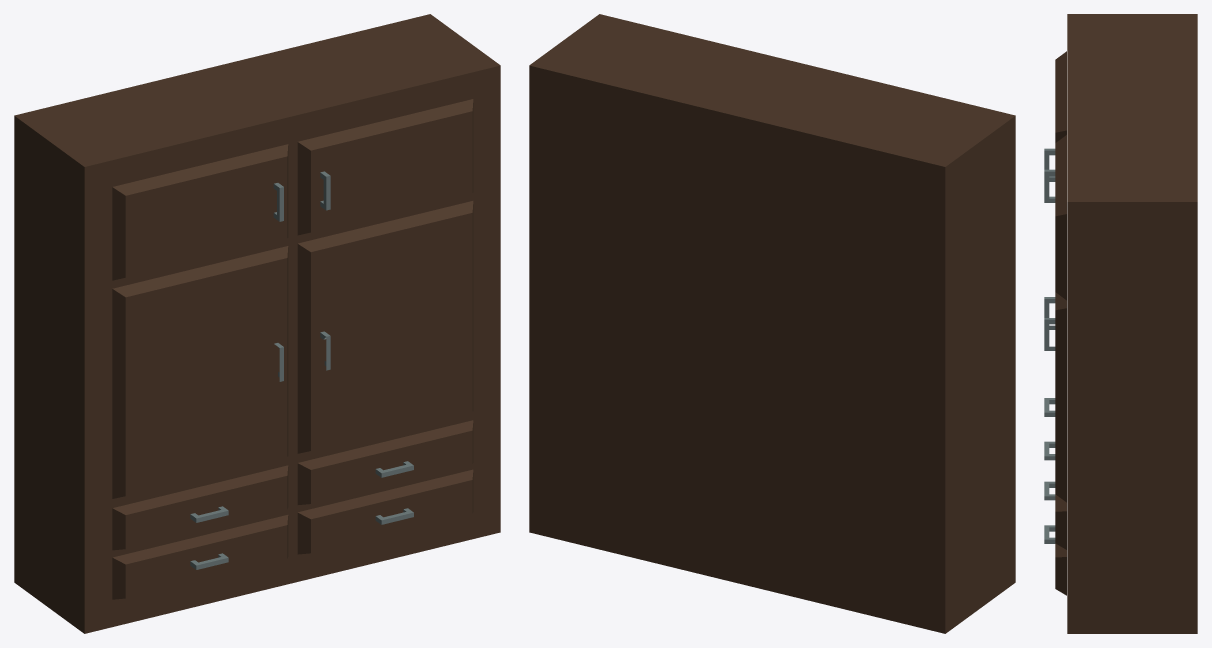
File: Wardrobe1.fbx
3 views of the same model, side by side, from view 1: azimuth 30°, elevation 25°; view 2: azimuth 150°, elevation 25°; view 3: azimuth 270°, elevation 25° (orthographic). The views are drawn at different scales.
Parts seen in each view (by area): view 1: Wardrobe, Wardrobe.004, Wardrobe.003, Wardrobe.002, Wardrobe.001, Wardrobe.005, Wardrobe.007, Wardrobe.006, Wardrobe.008; view 2: Wardrobe; view 3: Wardrobe, Wardrobe.004, Wardrobe.002, Wardrobe.001, Wardrobe.006, Wardrobe.008, Handle.V.001, Handle.V.002.
Boxes of the visible parts, bbox=[...] form: Wardrobe: bbox=[14, 14, 500, 633]; Wardrobe.004: bbox=[297, 201, 473, 453]; Wardrobe.003: bbox=[112, 246, 288, 498]; Wardrobe.002: bbox=[297, 99, 473, 235]; Wardrobe.001: bbox=[112, 144, 288, 280]; Wardrobe.005: bbox=[112, 465, 288, 550]; Wardrobe.007: bbox=[112, 515, 288, 599]; Wardrobe.006: bbox=[297, 420, 473, 504]; Wardrobe.008: bbox=[297, 469, 473, 554]; Wardrobe: bbox=[529, 14, 1015, 633]; Wardrobe: bbox=[1067, 14, 1197, 633]; Wardrobe.004: bbox=[1055, 292, 1066, 502]; Wardrobe.002: bbox=[1055, 135, 1066, 300]; Wardrobe.001: bbox=[1055, 51, 1066, 142]; Wardrobe.006: bbox=[1055, 494, 1066, 549]; Wardrobe.008: bbox=[1055, 543, 1066, 595]; Handle.V.001: bbox=[1044, 169, 1055, 202]; Handle.V.002: bbox=[1044, 318, 1055, 350].
Size of the model in its own units: 181 by 194 by 62.4.
